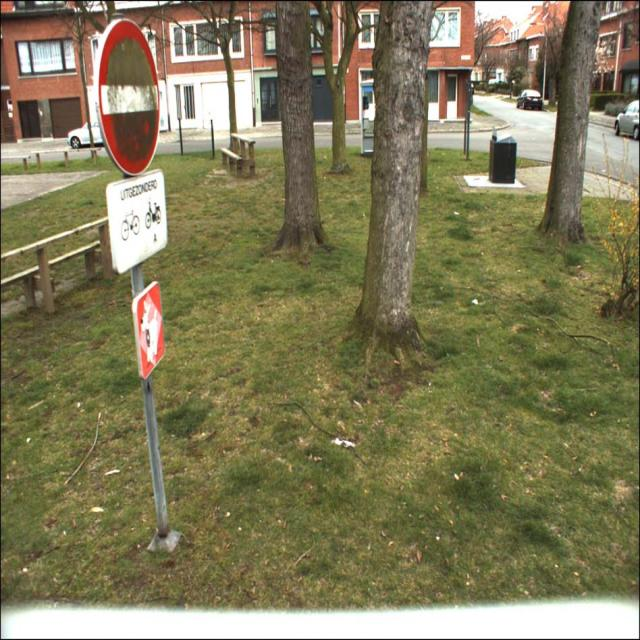girisyok: (98, 18, 158, 173)
